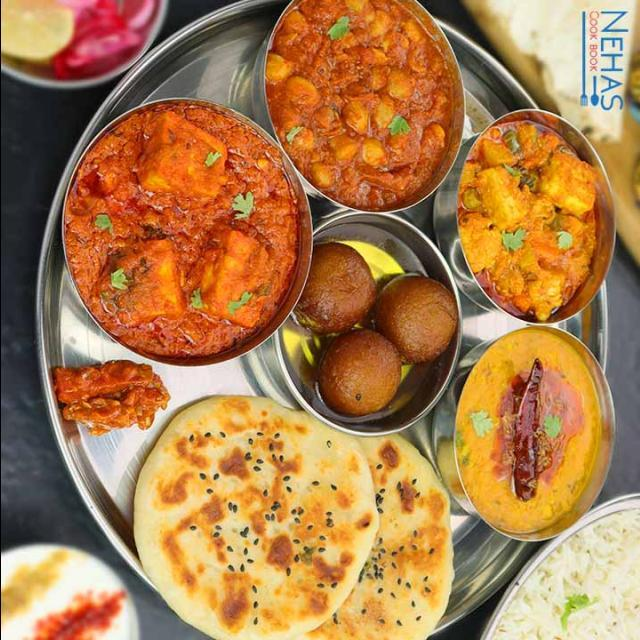dal: (314, 328, 402, 427), (291, 239, 371, 333)
rice: (508, 508, 635, 638)
roti: (78, 87, 287, 363), (155, 403, 383, 626)
sambar-rasam: (444, 324, 622, 545)
sweet: (1, 544, 143, 638), (313, 329, 403, 426), (293, 239, 371, 334)
veg-fry: (337, 448, 458, 637)
